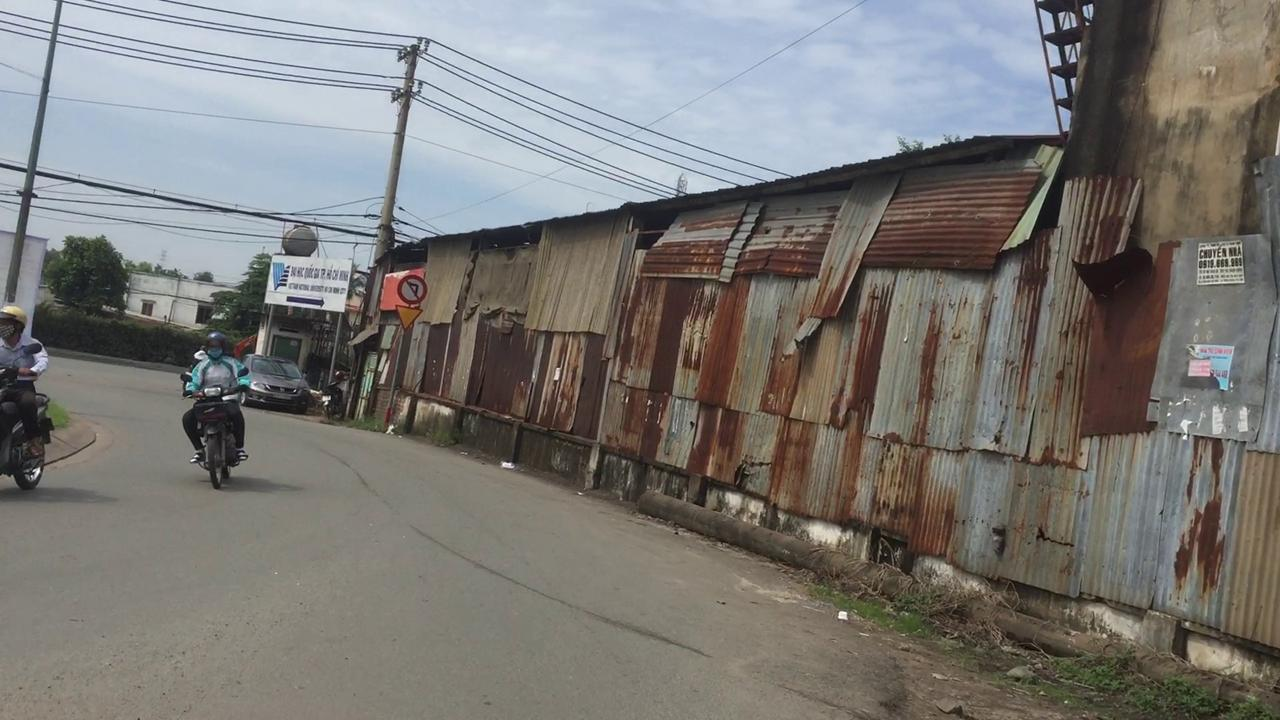P.115: (396, 274, 429, 304)
P.128: (394, 306, 424, 332)
